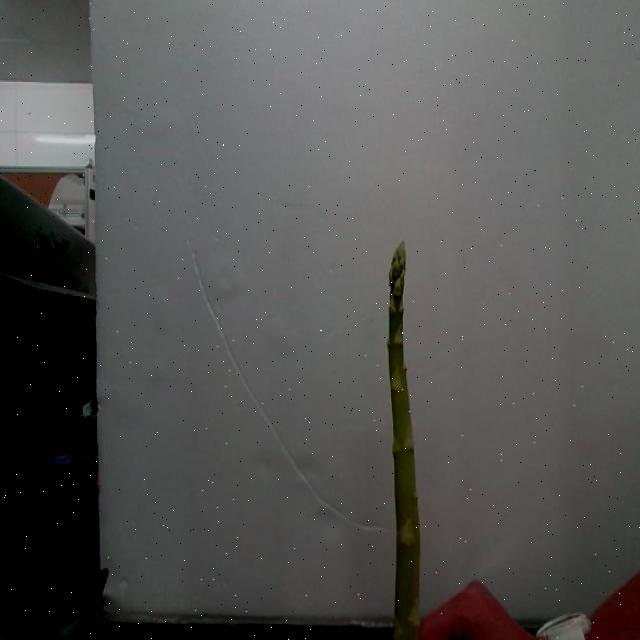aspargus: (385, 246, 420, 640)
